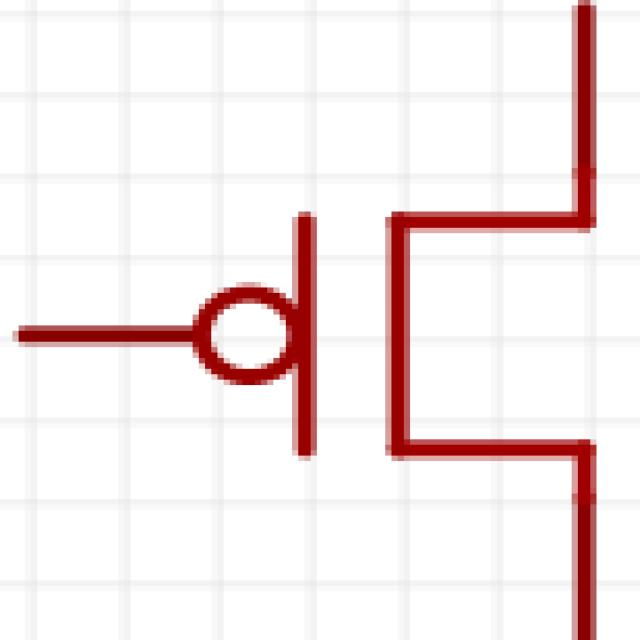pmos: (45, 82, 640, 599)
